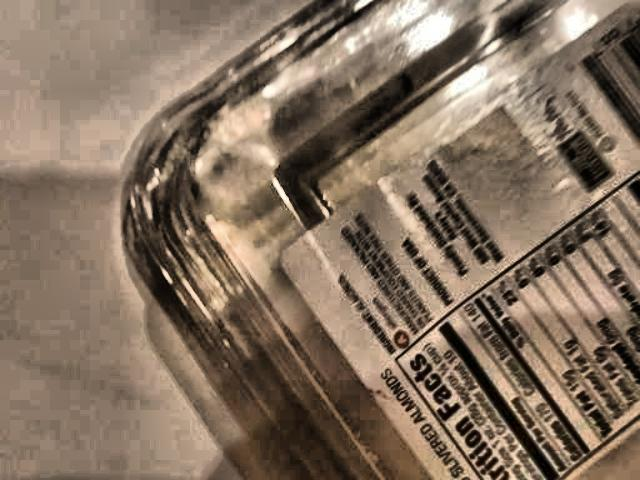Plastic: (0, 7, 640, 480)
